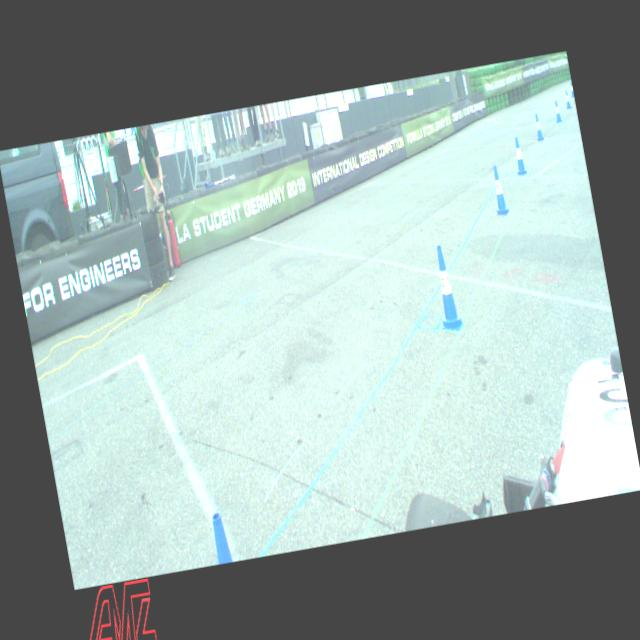blue_cone: (428, 244, 464, 332), (487, 164, 510, 214), (210, 510, 232, 562), (512, 136, 526, 174), (532, 114, 544, 140), (552, 100, 562, 122), (564, 89, 570, 107), (569, 81, 574, 98)
